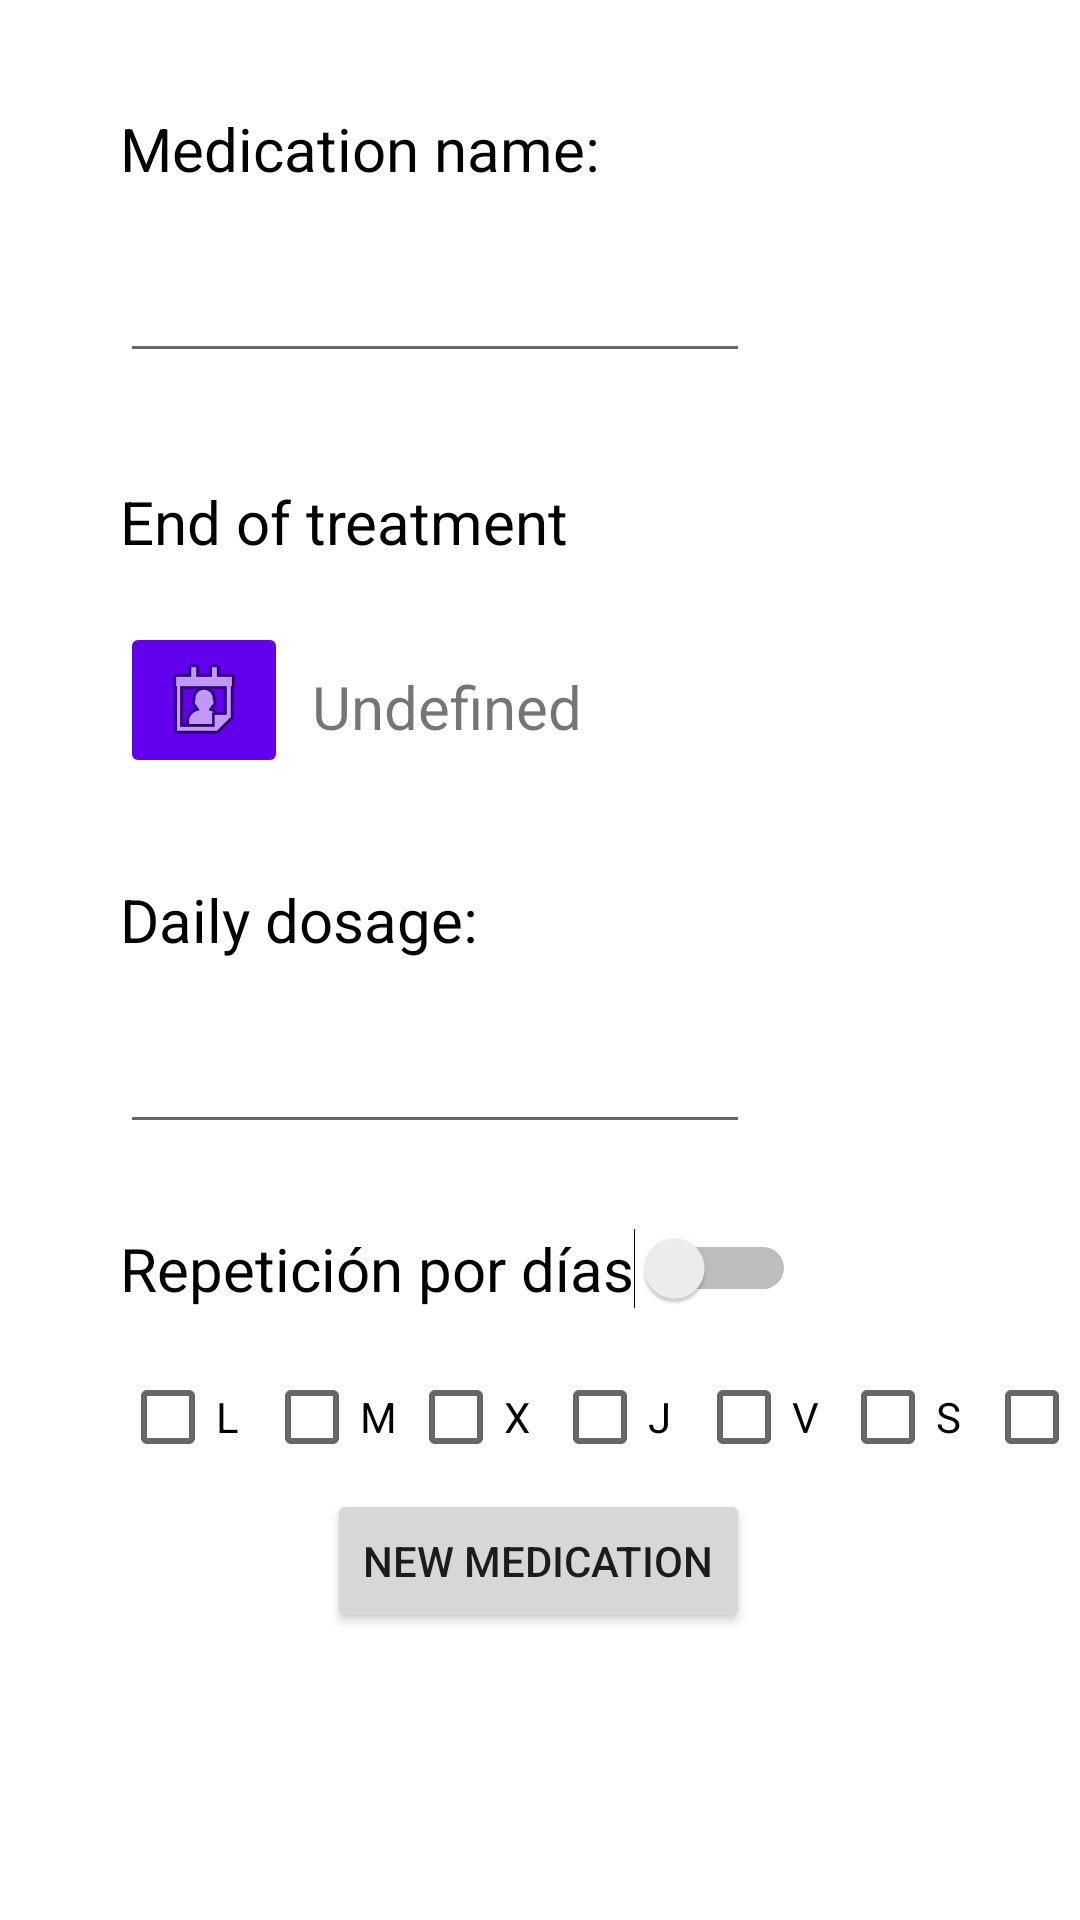

Where icons sit on this 1080 x 1920 app screen, as (x1, y1, x2, y2):
calendar: (132, 640, 276, 760)
